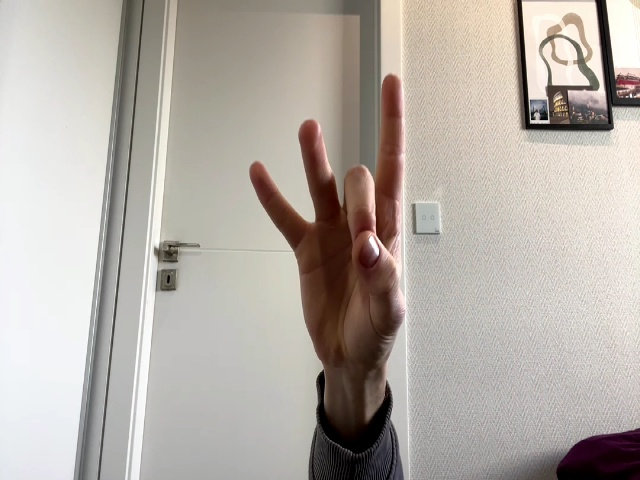G: (250, 74, 407, 363)
